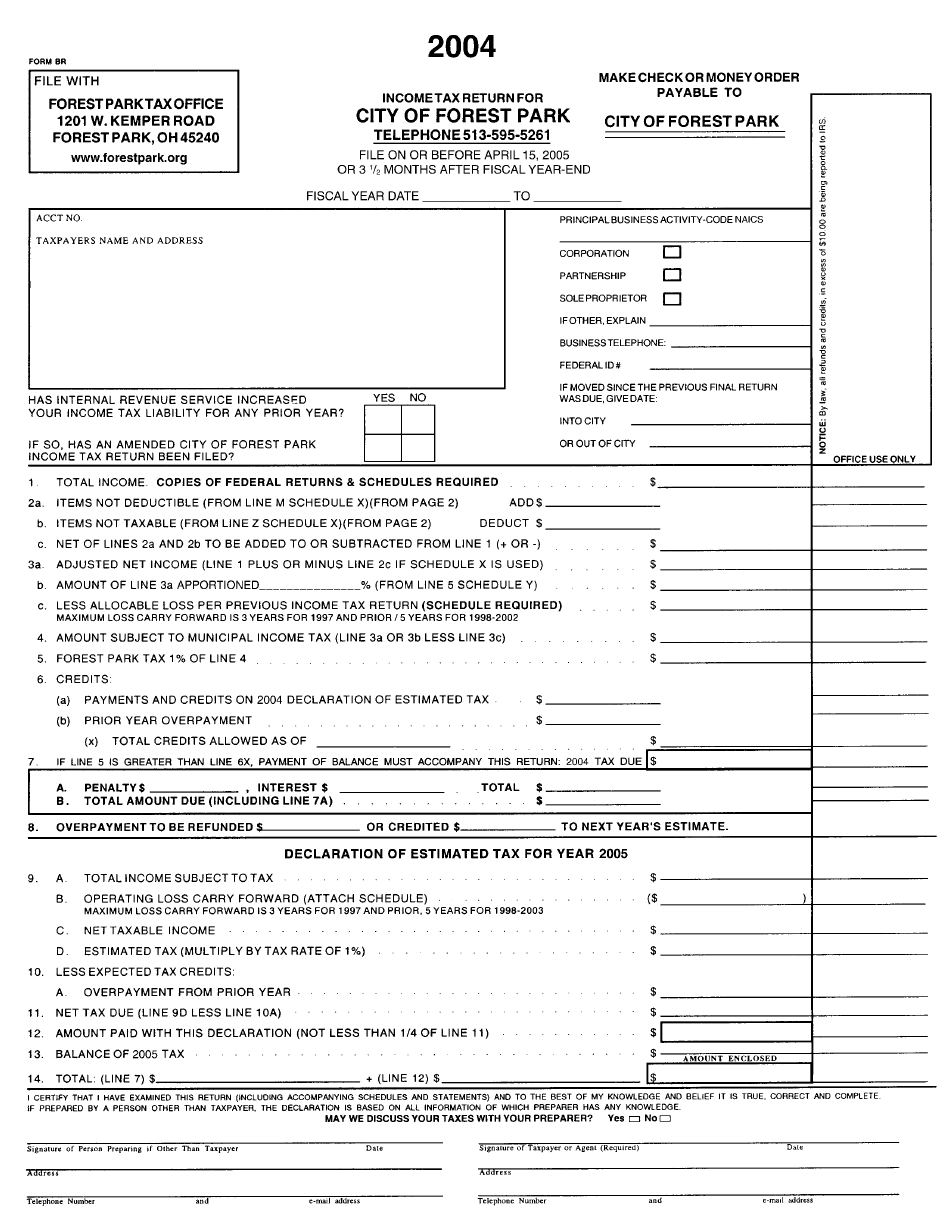checkbox: (360, 402, 406, 439), (395, 400, 441, 437), (360, 427, 406, 464), (396, 427, 442, 464), (660, 241, 684, 261), (661, 264, 685, 284), (658, 287, 682, 307), (626, 1112, 643, 1123), (656, 1112, 673, 1123)
textbox: (25, 204, 510, 394), (643, 745, 818, 774), (642, 1057, 817, 1086), (656, 1017, 817, 1045), (806, 462, 935, 492), (808, 478, 937, 508), (808, 498, 937, 528), (810, 521, 939, 551), (809, 542, 938, 572), (810, 563, 939, 593), (806, 583, 935, 613), (806, 615, 935, 645), (806, 637, 935, 667), (807, 669, 936, 699), (807, 687, 936, 717), (810, 719, 939, 749), (808, 742, 937, 772), (809, 762, 938, 792), (809, 773, 938, 803), (809, 813, 938, 843), (807, 852, 936, 882), (807, 879, 936, 909), (807, 906, 936, 936), (806, 928, 935, 958), (809, 972, 938, 1002), (812, 992, 941, 1022), (808, 1012, 937, 1042), (806, 1028, 935, 1058), (809, 1060, 938, 1090)
textline: (479, 1152, 898, 1170), (22, 1151, 441, 1169), (24, 1127, 359, 1145), (477, 1127, 780, 1146), (645, 1179, 908, 1197), (191, 1181, 454, 1199), (554, 227, 813, 245), (625, 405, 811, 427), (156, 1065, 365, 1084), (312, 725, 459, 751), (654, 726, 816, 749), (656, 643, 818, 666), (653, 623, 815, 646), (647, 352, 813, 374), (635, 431, 815, 451), (646, 310, 812, 330), (545, 682, 665, 708), (667, 330, 812, 351), (474, 1179, 643, 1197), (23, 1180, 192, 1198), (659, 915, 810, 935), (657, 595, 814, 613), (658, 574, 815, 592), (658, 555, 815, 573), (661, 537, 818, 555), (658, 471, 815, 489), (544, 510, 663, 533), (657, 863, 809, 881), (661, 889, 813, 907), (659, 941, 811, 959), (662, 982, 814, 1000), (659, 999, 811, 1017), (657, 1038, 809, 1056), (784, 1125, 904, 1146), (544, 489, 658, 511), (259, 568, 359, 593), (544, 707, 661, 728), (440, 1072, 639, 1084), (545, 776, 665, 794), (543, 789, 663, 807), (336, 778, 450, 796), (452, 816, 556, 833), (255, 818, 365, 834), (421, 186, 512, 204), (533, 185, 624, 203), (360, 1127, 441, 1147), (145, 779, 241, 795)
